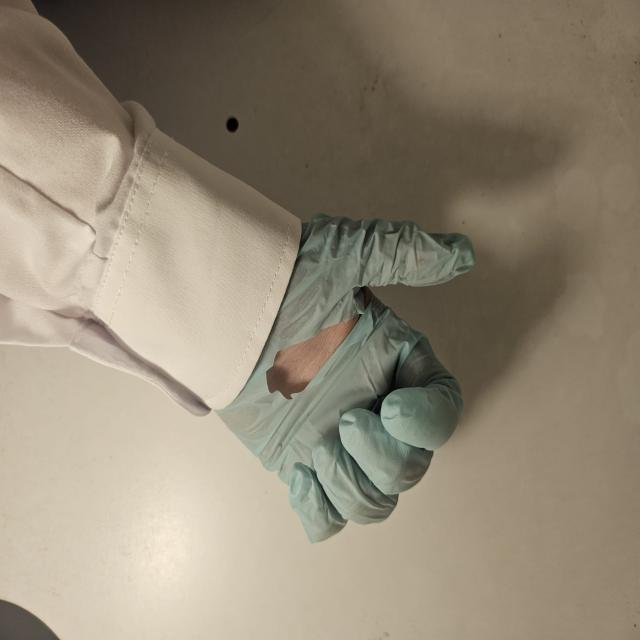gloves_damaged: (212, 205, 480, 551)
